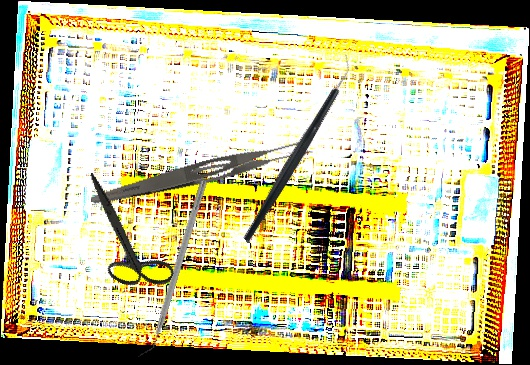Chopper: (193, 53, 400, 244), (136, 176, 208, 361)
Dressing Forceps: (88, 132, 316, 216)
Iris Scissors: (51, 172, 198, 304)
